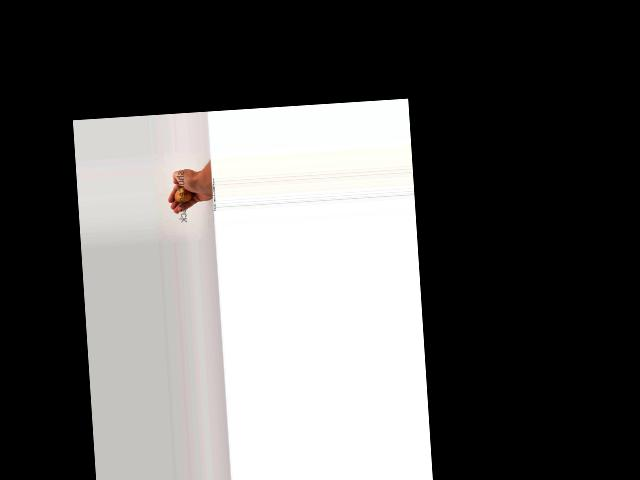egg: (174, 187, 193, 203)
